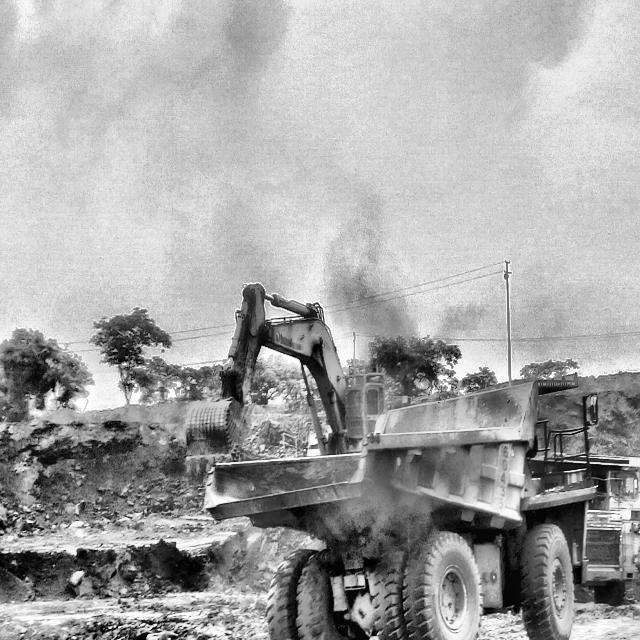dump_truck: (204, 376, 593, 640), (575, 465, 640, 607)
excavator: (184, 284, 416, 463)
